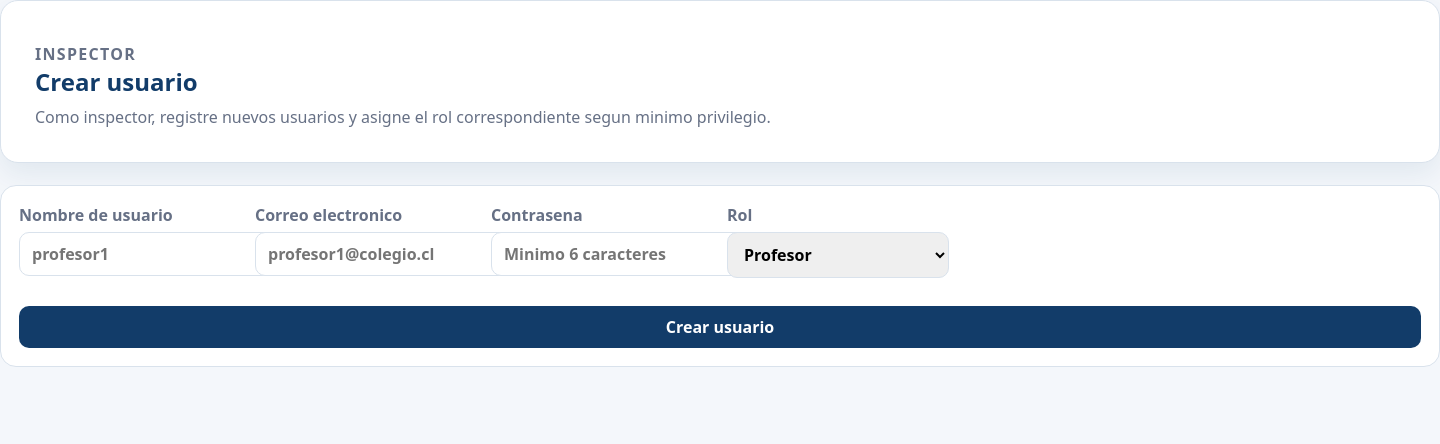
it: CrearUsuario › crea usuario profesor con datos validos
Type "profesor2" into the field labelled "Nombre de usuario".
click(154, 254); type("profesor2")  # box [19,232,290,276]
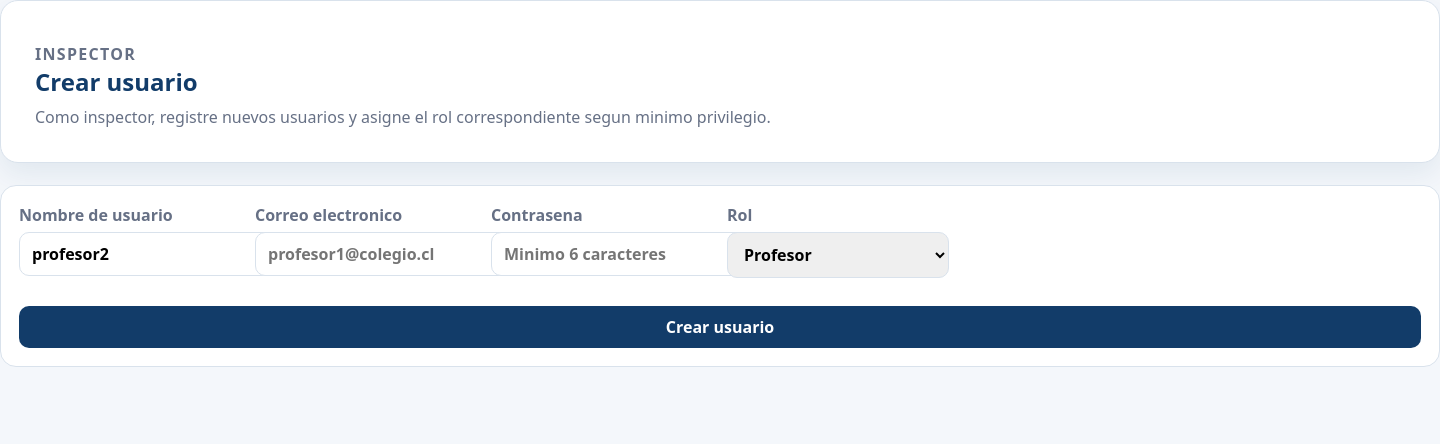
Type "profesor2@colegio.cl" into the field labelled "Correo electronico".
click(390, 254); type("profesor2@colegio.cl")  # box [255,232,526,276]
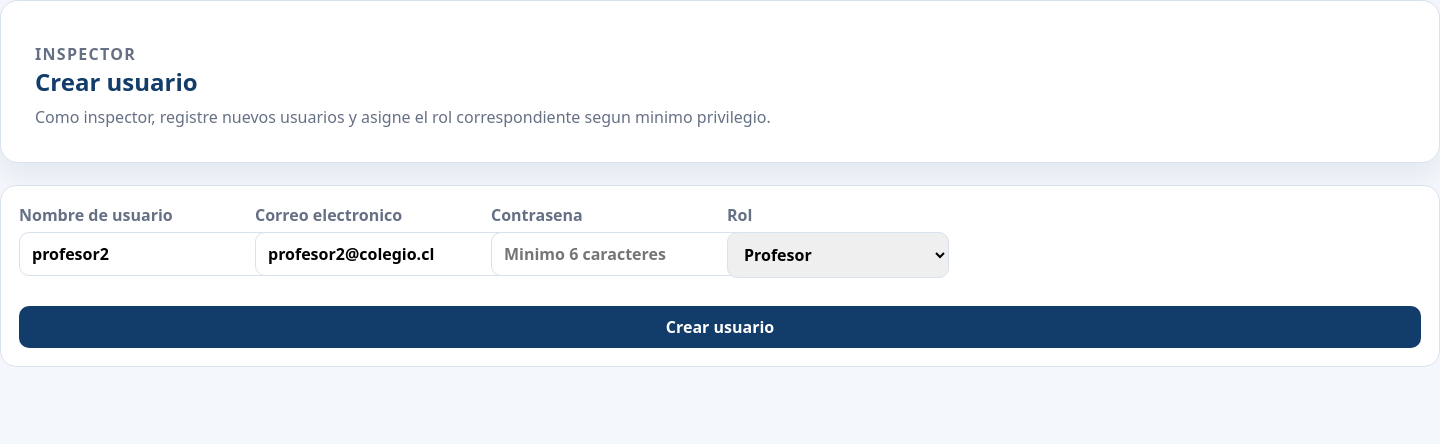
Type "clave123" into the password field with placeholder "Minimo 6 caracteres".
click(626, 254); type("clave123")  # box [491,232,762,276]
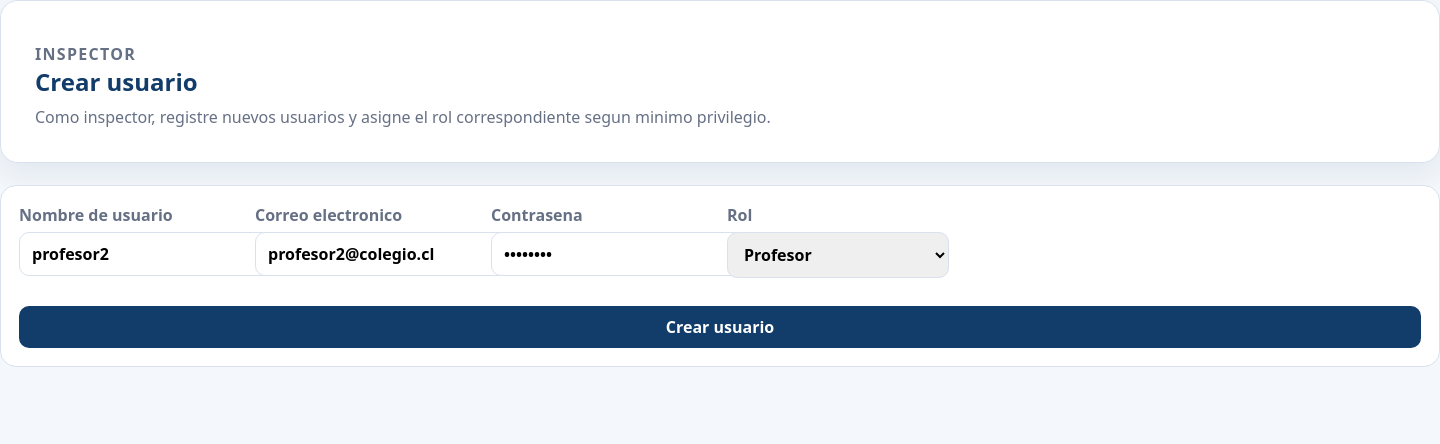
Click the button "Crear usuario".
click(720, 327)  # box [19,306,1421,348]
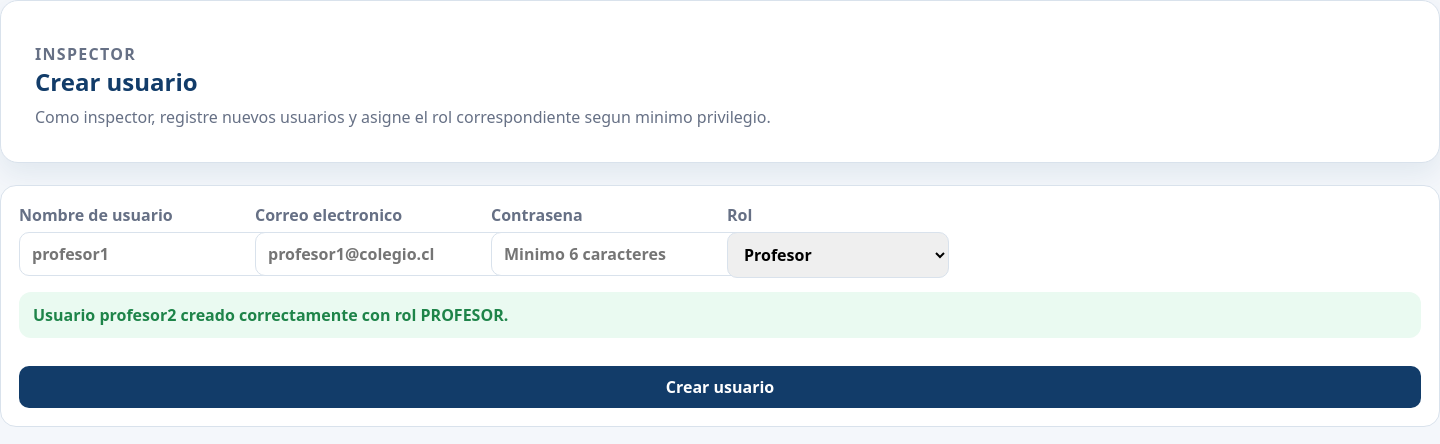
Expected: the text "Usuario profesor2 creado correctamente con rol PROFESOR." is shown, [19,292,1421,338]
